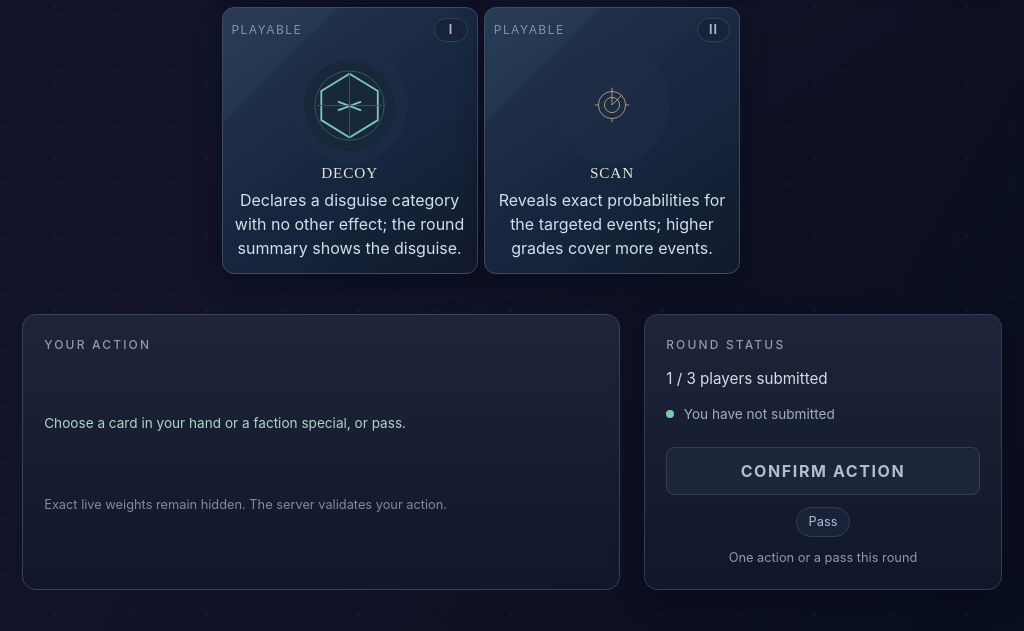
Test: playing an action on the board › shows a pass rejected because the round closed after the view refreshes into the next phase
(page scrolled)
Click the button "Pass".
click(823, 522)  # box x1=796 y1=506 x2=850 y2=537
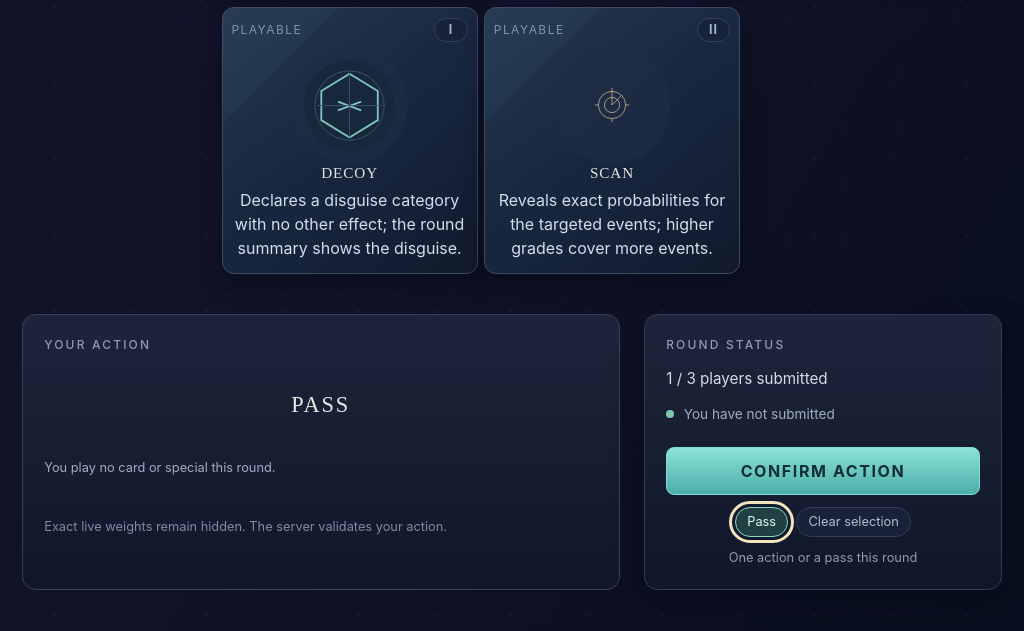
Click the button "Confirm action".
click(823, 471)  # box x1=666 y1=447 x2=980 y2=495
(page scrolled)
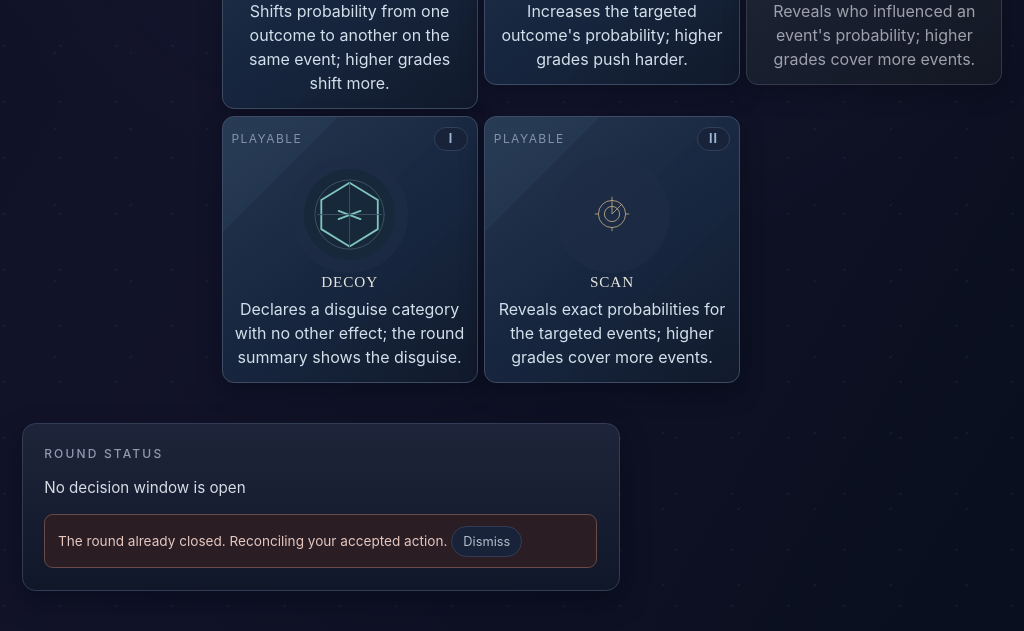
Result: the message shows "The round already closed." at x1=58 y1=532 x2=447 y2=548
Result: the heading "Your action" is gone
Result: the text "No decision window is open" is shown at x1=44 y1=478 x2=246 y2=497
